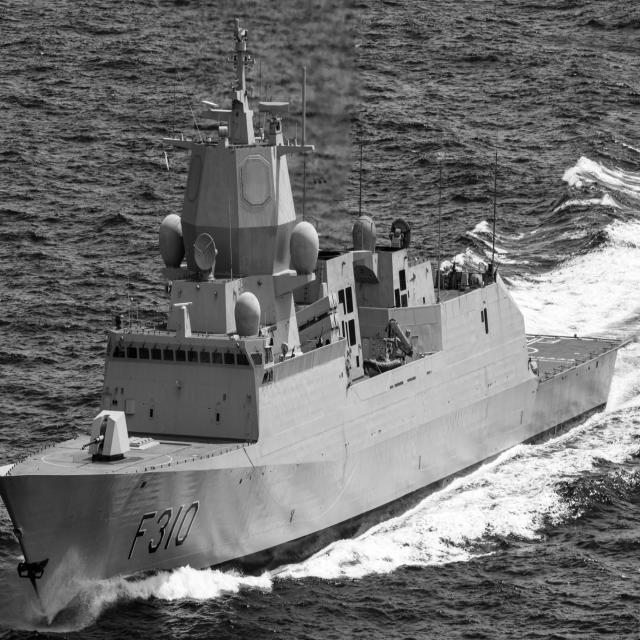Fragata: (1, 50, 626, 638)
